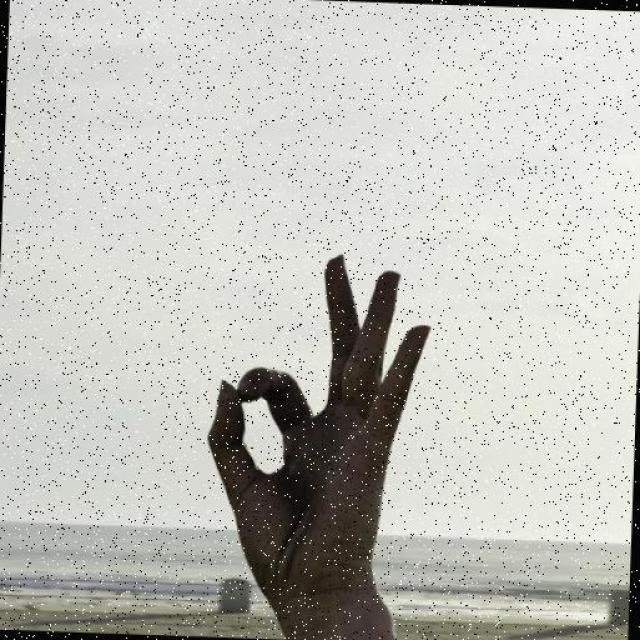F: (200, 243, 439, 606)
